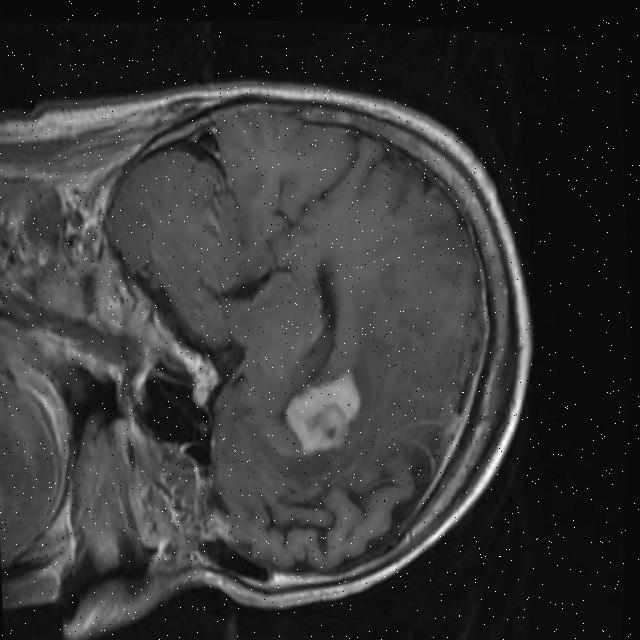Glioma: (279, 366, 368, 461)
Pituitary: (186, 349, 224, 410)
